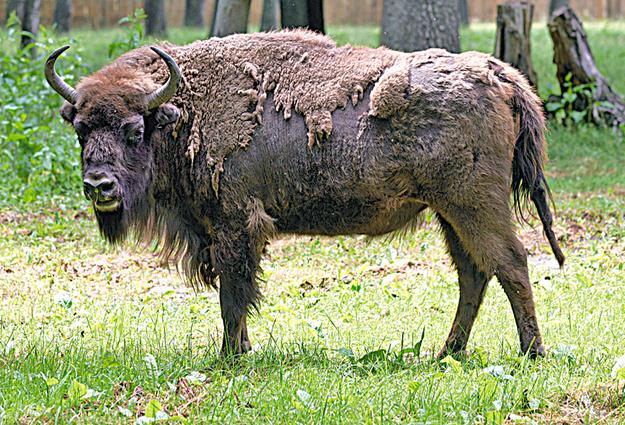zubr: (30, 16, 576, 370)
